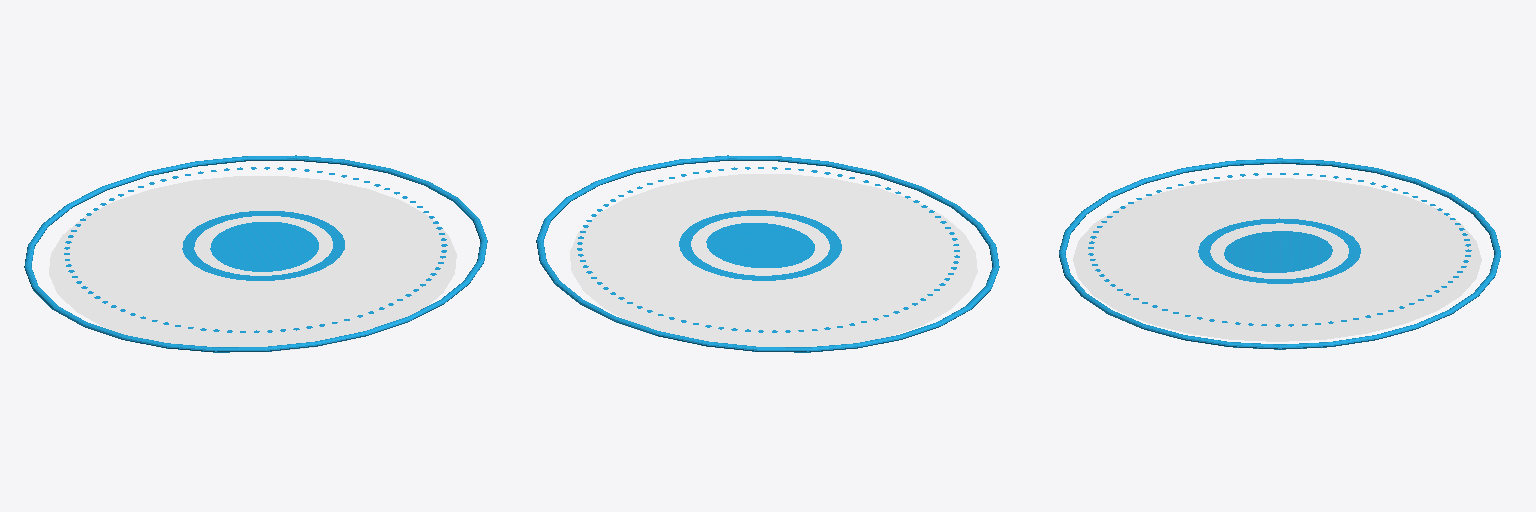
3 renders of one model, left to right at view 1: azimuth 30°, elevation 25°; view 2: azimuth 150°, elevation 25°; view 3: azimuth 270°, elevation 25°, orthographic.
Visible parts, largest first — view 1: Circle165, Circle160, Circle164, Donut001; view 2: Circle165, Circle160, Circle164, Donut001; view 3: Circle165, Circle160, Circle164, Donut001.
Part boxes in pixels (left/top/right/bottom): Circle165: left=49, top=176, right=456, bottom=351; Circle160: left=24, top=155, right=487, bottom=352; Circle164: left=210, top=222, right=318, bottom=271; Donut001: left=182, top=211, right=344, bottom=280; Circle165: left=570, top=174, right=977, bottom=346; Circle160: left=536, top=155, right=999, bottom=352; Circle164: left=706, top=223, right=814, bottom=267; Donut001: left=679, top=210, right=841, bottom=280; Circle165: left=1073, top=178, right=1481, bottom=341; Circle160: left=1059, top=158, right=1500, bottom=349; Circle164: left=1224, top=231, right=1332, bottom=272; Donut001: left=1198, top=218, right=1360, bottom=283.
Size of the model in its own units: 990 by 47.95 by 931.
Materials: 2 (1 with a texture image).